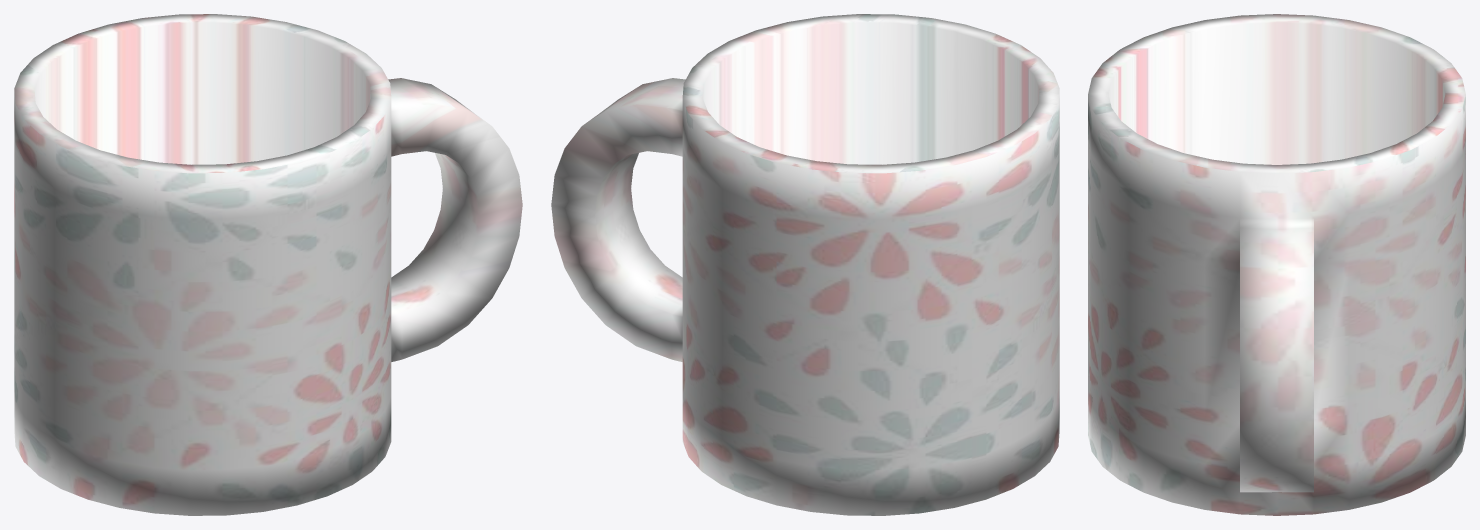
The model's file is glass.glb.
The picture shows the model from 3 angles, left to right: view 1: azimuth 30°, elevation 25°; view 2: azimuth 150°, elevation 25°; view 3: azimuth 270°, elevation 25°; orthographic projection.
Visible parts, largest first — view 1: Cylinder; view 2: Cylinder; view 3: Cylinder.
Part boxes in pixels (box(x1,y1,x2,y2)): Cylinder: box(14, 14, 522, 515); Cylinder: box(551, 14, 1059, 515); Cylinder: box(1088, 14, 1465, 515).
Size of the model in its own units: 2.84 by 2 by 2.
Materials: 1 (1 with a texture image).
